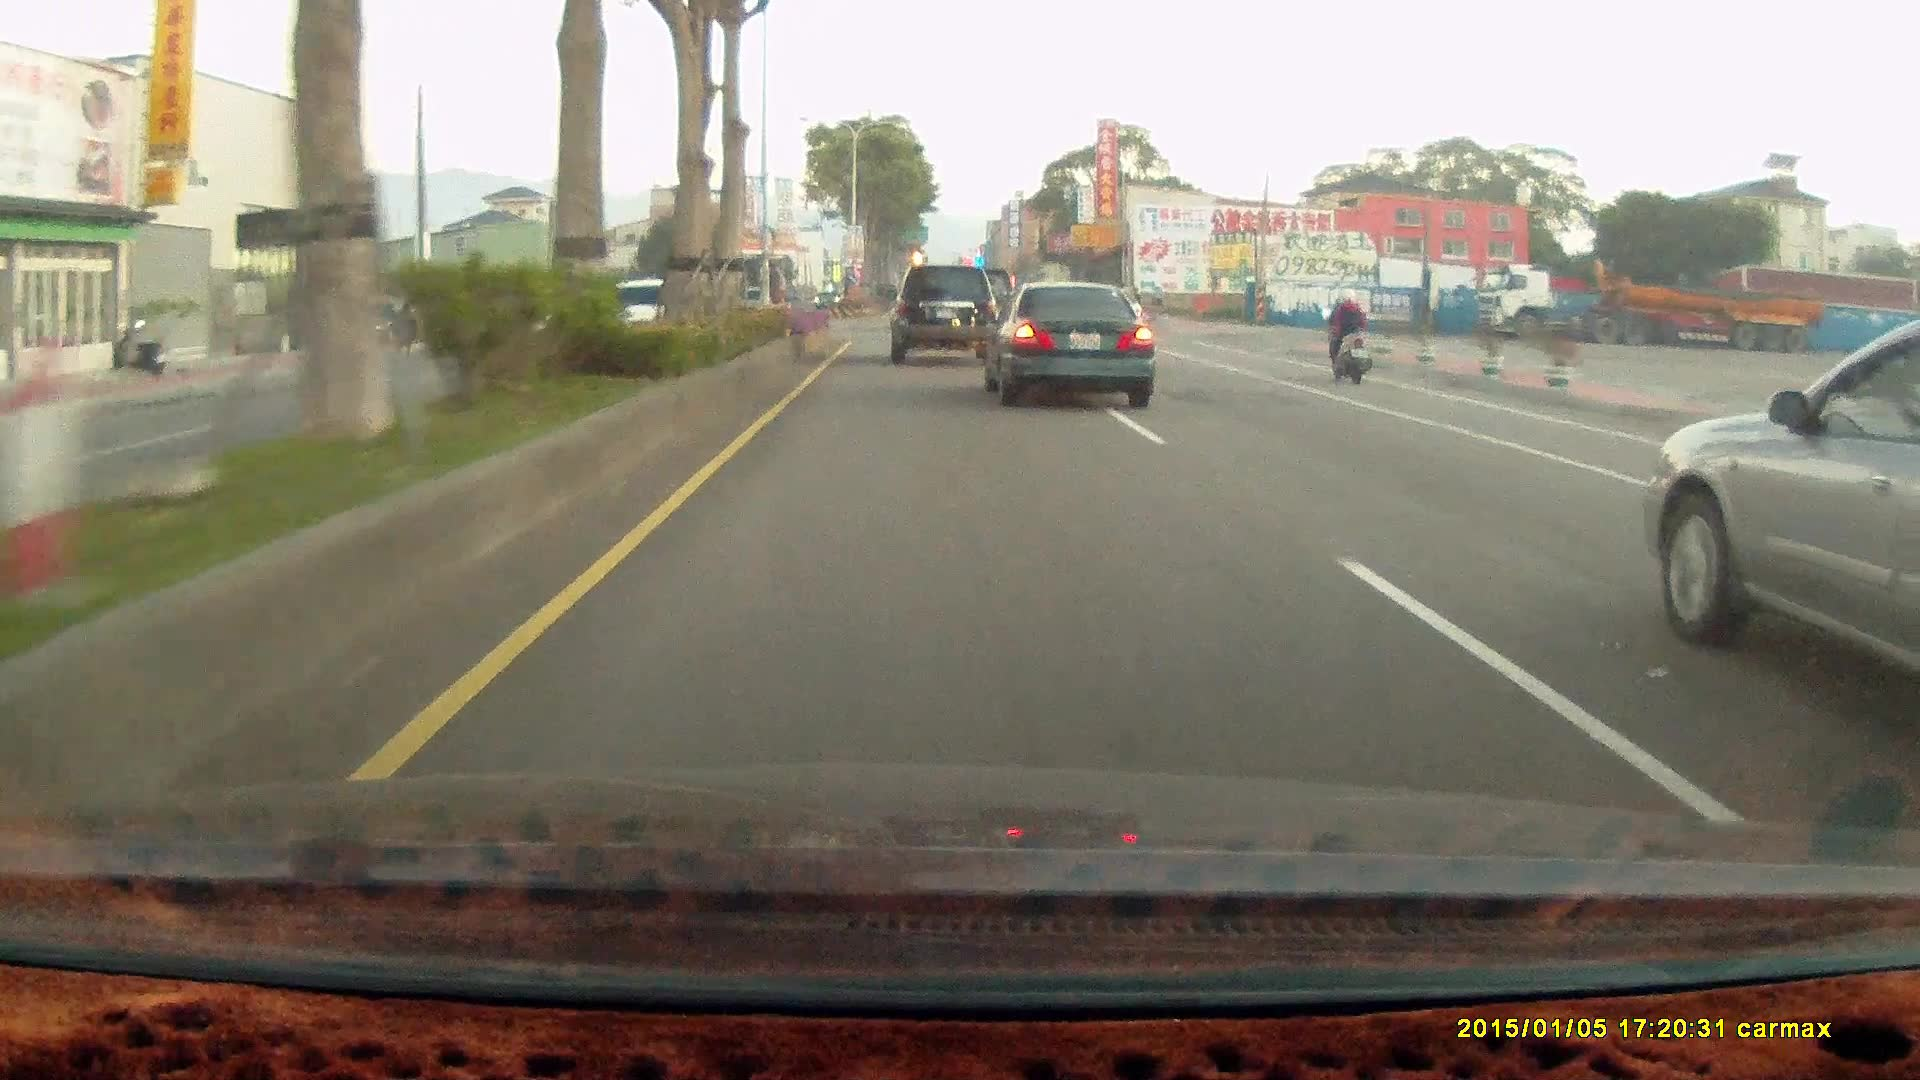pedestrian: (390, 296, 416, 358)
rider: (1314, 281, 1383, 391), (1317, 290, 1372, 387)
vehicle: (1645, 311, 1920, 698), (1471, 266, 1820, 353), (977, 278, 1154, 407), (980, 287, 1152, 409), (883, 271, 995, 372), (891, 264, 999, 367)
